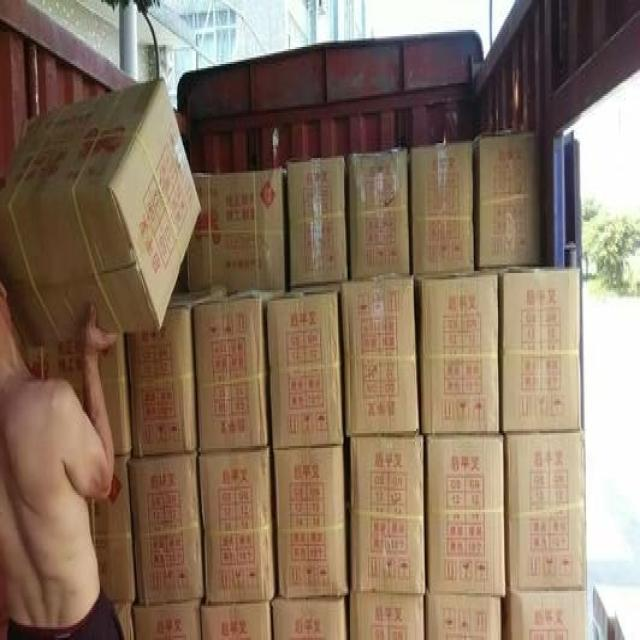box: (0, 77, 201, 346), (126, 284, 227, 457), (192, 288, 285, 452), (492, 265, 582, 431), (414, 267, 499, 433), (426, 431, 506, 597), (198, 439, 278, 604), (505, 429, 587, 589), (346, 435, 427, 595), (186, 169, 290, 292), (343, 273, 420, 437), (269, 282, 345, 448), (274, 439, 350, 597), (129, 452, 205, 606), (473, 132, 543, 267), (409, 141, 475, 273), (286, 158, 350, 286), (348, 145, 409, 279), (88, 454, 136, 604), (503, 589, 589, 640), (23, 341, 84, 410), (100, 335, 132, 457), (350, 591, 425, 640), (425, 593, 503, 640), (273, 595, 349, 640), (134, 599, 202, 640), (200, 602, 273, 640), (592, 589, 640, 640), (112, 602, 135, 640), (616, 608, 640, 640), (591, 617, 606, 640)
